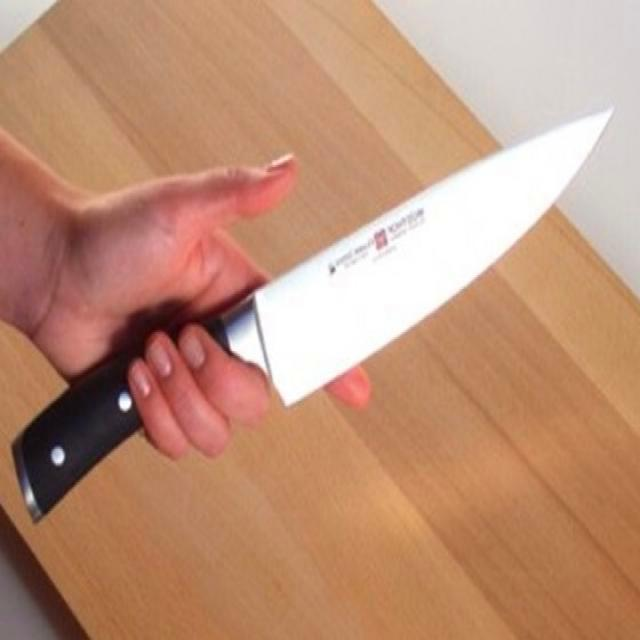Knife: (202, 109, 612, 404)
Knife_Handle: (13, 75, 630, 559)
